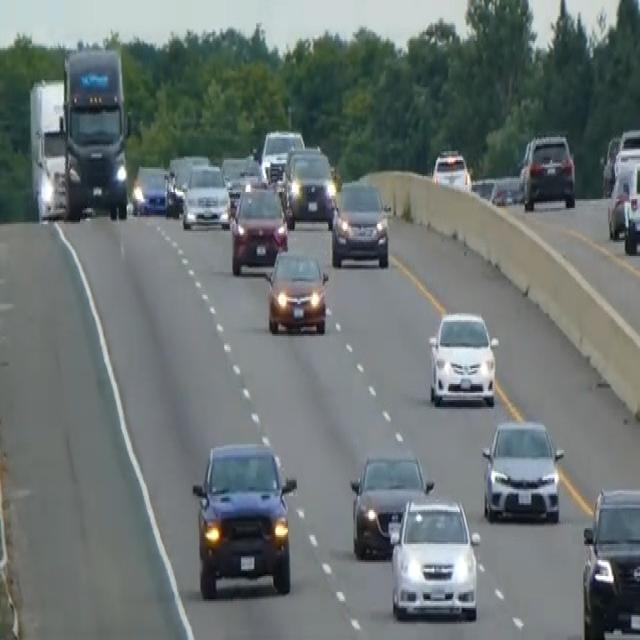car: (388, 494, 480, 622), (348, 450, 433, 558), (581, 484, 639, 638), (481, 416, 564, 523), (427, 308, 499, 407), (264, 245, 329, 336), (229, 178, 288, 274), (330, 176, 390, 268), (519, 130, 576, 210), (283, 144, 336, 226), (181, 160, 230, 229), (606, 156, 639, 244), (164, 153, 209, 215), (221, 153, 263, 215), (260, 126, 305, 182), (131, 162, 169, 215), (431, 146, 471, 192), (622, 156, 639, 255), (612, 126, 639, 178)
jeep: (190, 437, 298, 599)
lorry: (28, 41, 131, 222)
